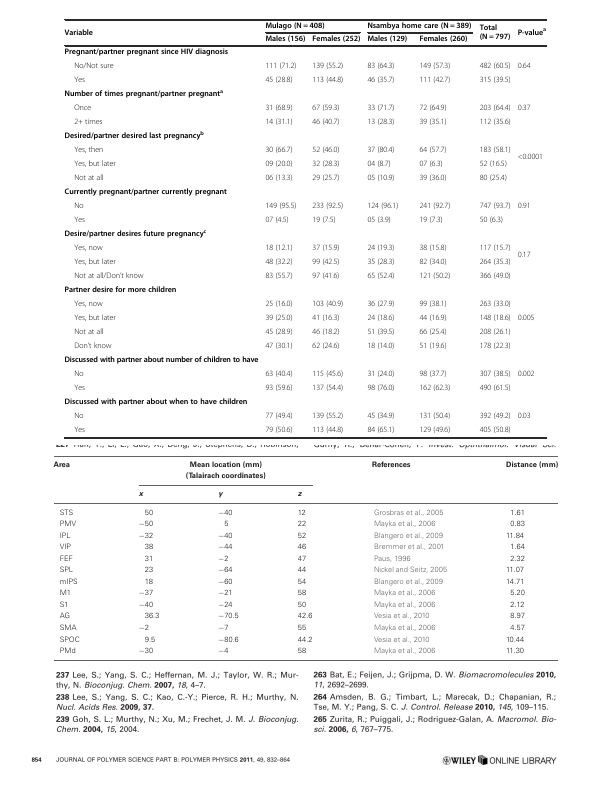borderless: (63, 18, 546, 437), (53, 455, 558, 660)
cell: (64, 356, 259, 366), (64, 398, 248, 408), (64, 89, 224, 100), (64, 48, 229, 58), (185, 461, 267, 481), (64, 188, 228, 198), (64, 229, 207, 240), (64, 131, 205, 142), (64, 286, 177, 296), (366, 22, 472, 31), (373, 566, 448, 575), (373, 544, 445, 553), (73, 272, 145, 281), (373, 509, 444, 518), (373, 532, 444, 541), (373, 578, 444, 587), (479, 24, 511, 42), (373, 601, 436, 610), (373, 624, 436, 633), (373, 647, 436, 656), (264, 22, 325, 31), (373, 613, 430, 622), (373, 636, 430, 645), (373, 521, 436, 529), (373, 590, 436, 598), (311, 35, 361, 45), (418, 35, 468, 45), (505, 461, 559, 469), (264, 35, 306, 45), (366, 35, 408, 45), (73, 160, 117, 169), (73, 258, 117, 267), (73, 314, 117, 323), (73, 62, 114, 71), (373, 555, 412, 564), (73, 342, 112, 351), (517, 27, 547, 38), (371, 461, 412, 469), (64, 28, 94, 38), (264, 62, 297, 71), (311, 62, 344, 71), (418, 62, 451, 71), (311, 76, 344, 85), (418, 76, 451, 85), (264, 202, 297, 211), (311, 202, 344, 211), (366, 202, 399, 211), (418, 202, 451, 211), (418, 272, 451, 281), (311, 300, 344, 309), (311, 370, 344, 379), (311, 384, 344, 393), (418, 384, 451, 393), (311, 412, 344, 421), (418, 412, 451, 421), (311, 426, 344, 435), (418, 426, 451, 435), (479, 62, 511, 71), (479, 76, 511, 85), (479, 104, 511, 113), (479, 118, 511, 127), (479, 146, 511, 155), (479, 202, 511, 211), (479, 244, 511, 253), (479, 258, 511, 267), (479, 272, 511, 281), (479, 300, 511, 309), (479, 314, 511, 323), (479, 328, 511, 337), (479, 342, 511, 351), (479, 370, 511, 379), (479, 384, 511, 393), (479, 412, 511, 421), (479, 426, 511, 435), (73, 146, 104, 155), (73, 174, 104, 183), (73, 244, 104, 253), (73, 300, 104, 309), (73, 328, 104, 337), (73, 118, 103, 127), (366, 62, 395, 71), (264, 76, 293, 85), (366, 76, 395, 85), (264, 104, 293, 113), (311, 104, 340, 113), (366, 104, 395, 113), (418, 104, 447, 113), (264, 118, 293, 127), (311, 118, 340, 127), (366, 118, 395, 127), (418, 118, 447, 127), (264, 146, 293, 155), (311, 146, 340, 155), (366, 146, 395, 155), (418, 146, 447, 155), (264, 160, 293, 169), (311, 160, 340, 169), (479, 160, 508, 169), (264, 174, 293, 183), (311, 174, 340, 183), (366, 174, 395, 183), (418, 174, 447, 183), (479, 174, 508, 183), (264, 244, 293, 253), (311, 244, 340, 253), (366, 244, 395, 253), (418, 244, 447, 253), (264, 258, 293, 267), (311, 258, 340, 267), (366, 258, 395, 267), (418, 258, 447, 267), (264, 272, 293, 281), (311, 272, 340, 281), (366, 272, 395, 281), (264, 300, 293, 309), (366, 300, 395, 309), (418, 300, 447, 309), (264, 314, 293, 323), (311, 314, 340, 323), (366, 314, 395, 323), (418, 314, 447, 323), (264, 328, 293, 337), (311, 328, 340, 337), (366, 328, 395, 337), (418, 328, 447, 337), (264, 342, 293, 351), (311, 342, 340, 351), (366, 342, 395, 351), (418, 342, 447, 351), (264, 370, 293, 379), (366, 370, 395, 379), (418, 370, 447, 379), (264, 384, 293, 393), (366, 384, 395, 393), (264, 412, 293, 421), (366, 412, 395, 421), (264, 426, 293, 435), (366, 426, 395, 435), (517, 153, 544, 162), (366, 160, 392, 169), (418, 160, 444, 169), (264, 216, 290, 225), (366, 216, 392, 225), (418, 216, 444, 225), (311, 216, 336, 225), (479, 216, 504, 225), (217, 613, 240, 622), (217, 636, 240, 645), (59, 636, 81, 645), (505, 532, 525, 541), (505, 566, 525, 575), (59, 578, 79, 587), (505, 578, 525, 587), (505, 636, 525, 645), (505, 647, 525, 656), (73, 104, 92, 113), (59, 624, 77, 633), (59, 647, 77, 656), (517, 314, 535, 323), (517, 370, 535, 379), (217, 509, 234, 518), (509, 509, 526, 518), (217, 532, 234, 541), (217, 544, 234, 553), (509, 544, 526, 553), (509, 555, 526, 564), (217, 566, 234, 575), (217, 578, 234, 587), (217, 590, 234, 599), (217, 601, 234, 610), (509, 613, 526, 622), (509, 624, 526, 633), (52, 461, 71, 469), (59, 521, 77, 529), (138, 532, 154, 541), (138, 590, 154, 599), (138, 601, 154, 610), (509, 601, 525, 610), (144, 613, 160, 622), (297, 613, 313, 622), (297, 636, 313, 645), (138, 647, 154, 656), (509, 521, 526, 529), (509, 590, 526, 598), (59, 509, 74, 518), (59, 555, 74, 564), (59, 566, 74, 575), (138, 521, 154, 529), (517, 62, 531, 71), (517, 104, 531, 113), (517, 202, 531, 211), (517, 251, 531, 260), (517, 412, 531, 421), (59, 532, 72, 541), (59, 544, 72, 553), (59, 590, 72, 599), (73, 76, 86, 85), (73, 216, 86, 225), (73, 384, 86, 393), (73, 426, 86, 435), (217, 555, 229, 564), (59, 613, 71, 622), (138, 624, 150, 633), (217, 624, 229, 633), (144, 636, 156, 645), (217, 647, 229, 656), (73, 202, 84, 211), (73, 370, 84, 379), (73, 412, 84, 421), (144, 509, 154, 518), (297, 509, 307, 518), (297, 532, 307, 541), (144, 544, 154, 553), (297, 544, 307, 553), (144, 555, 154, 564), (297, 555, 307, 564), (144, 566, 154, 575), (297, 566, 307, 575), (144, 578, 154, 587), (297, 578, 307, 587), (297, 590, 307, 599), (59, 601, 69, 610), (297, 601, 307, 610), (297, 624, 307, 633), (297, 647, 307, 656), (297, 521, 307, 529), (223, 521, 229, 529), (138, 492, 144, 499), (217, 492, 223, 499), (297, 492, 302, 499)
